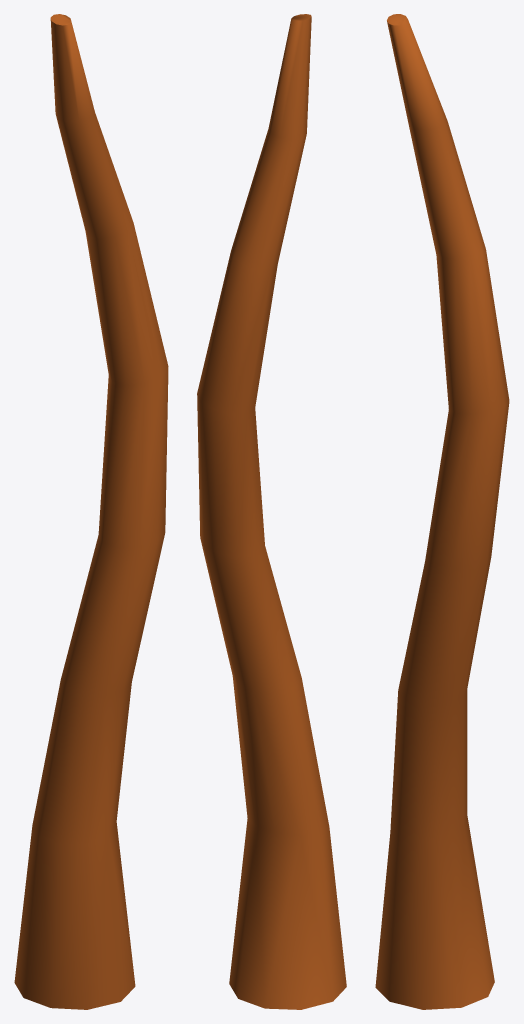
Rendered from TreeTrunk_13.fbx.
3 views of the same model, side by side, from view 1: azimuth 30°, elevation 25°; view 2: azimuth 210°, elevation 25°; view 3: azimuth 330°, elevation 25° (orthographic). The views are drawn at different scales.
Visible parts, largest first — view 1: TreeTrunk_13; view 2: TreeTrunk_13; view 3: TreeTrunk_13.
Boxes of the visible parts, left/top/right/bottom form: TreeTrunk_13: left=14, top=14, right=168, bottom=1009; TreeTrunk_13: left=197, top=14, right=346, bottom=1009; TreeTrunk_13: left=375, top=14, right=509, bottom=1009.
Bounding box in the file's own units: 53.81 × 381 × 43.81.
